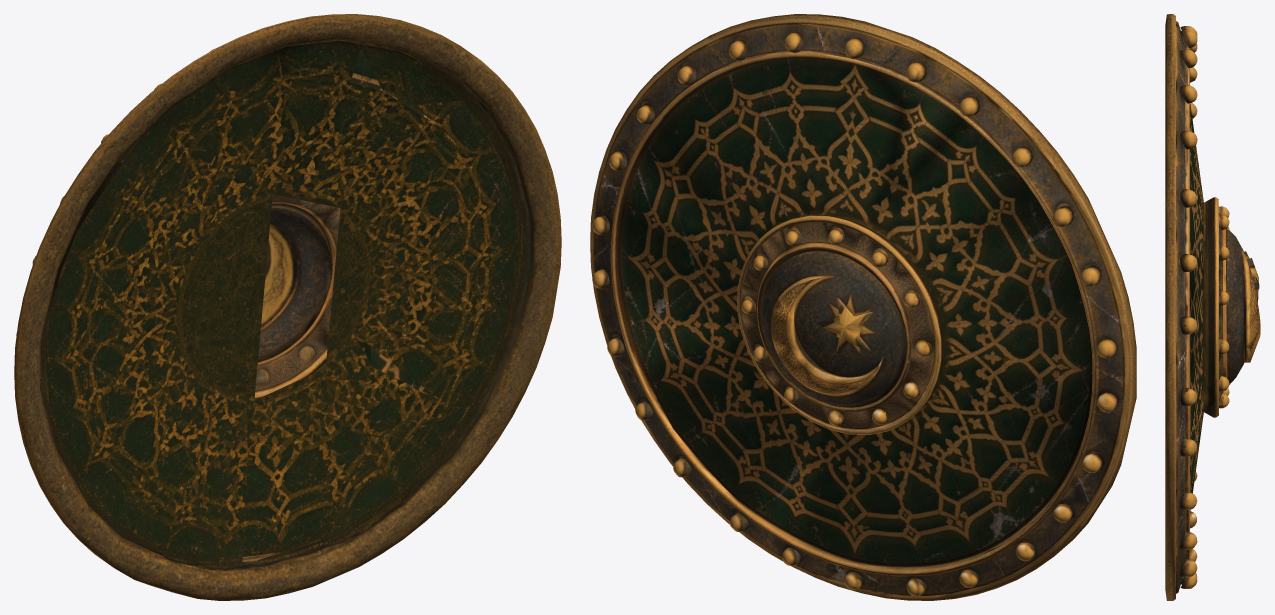
The model's file is Salaadin_Shield.fbx.
3 views of the same model, side by side, from view 1: azimuth 30°, elevation 25°; view 2: azimuth 150°, elevation 25°; view 3: azimuth 270°, elevation 25° (orthographic). The views are drawn at different scales.
Visible parts, largest first — view 1: Salaadin_Shield; view 2: Salaadin_Shield; view 3: Salaadin_Shield.
Boxes of the visible parts, x1,y1,x2,y2 form: Salaadin_Shield: (14, 14, 561, 600); Salaadin_Shield: (590, 14, 1136, 600); Salaadin_Shield: (1165, 14, 1260, 600).
Bounding box in the file's own units: 36 × 36 × 5.86.
